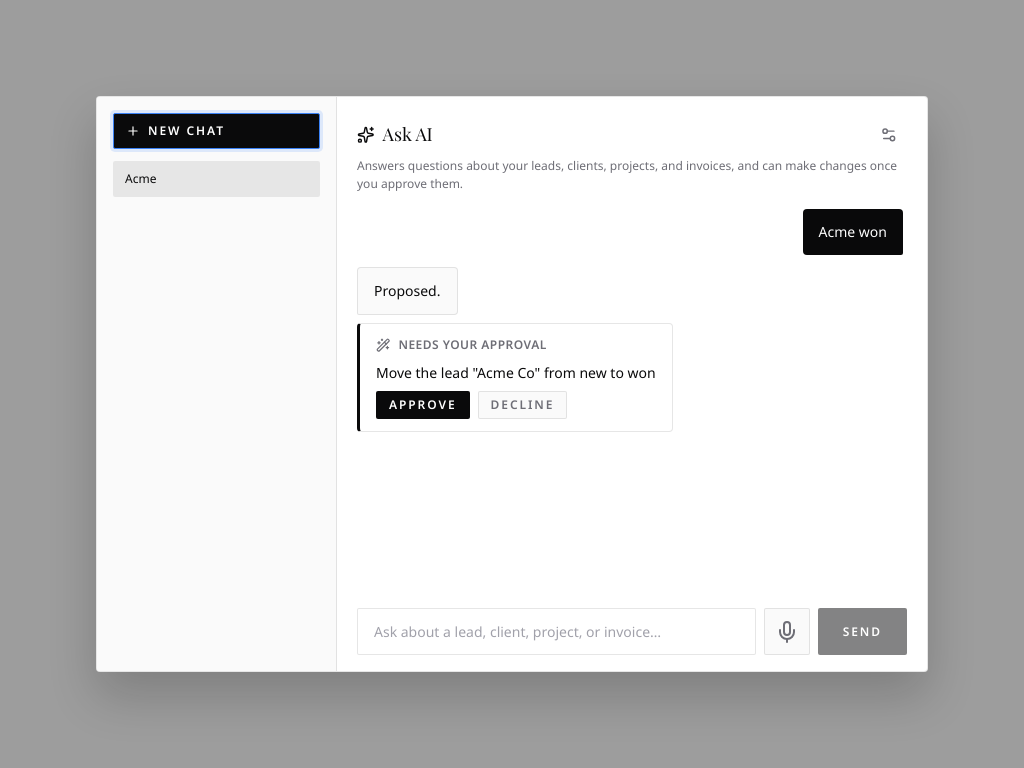
Test: AiModal › changes the assistant makes › declines a proposal loaded with the thread
Click the button "Decline": (522, 405) [478, 391, 567, 419]
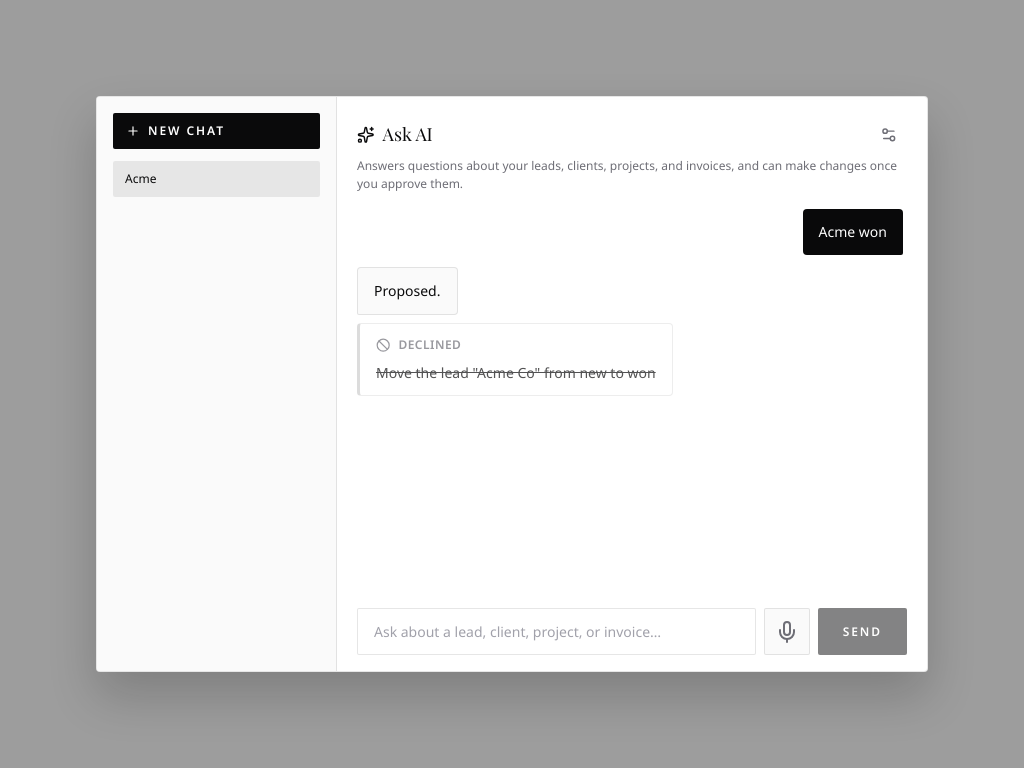
Expected: the text "Declined" is shown, [398, 336, 461, 354]
